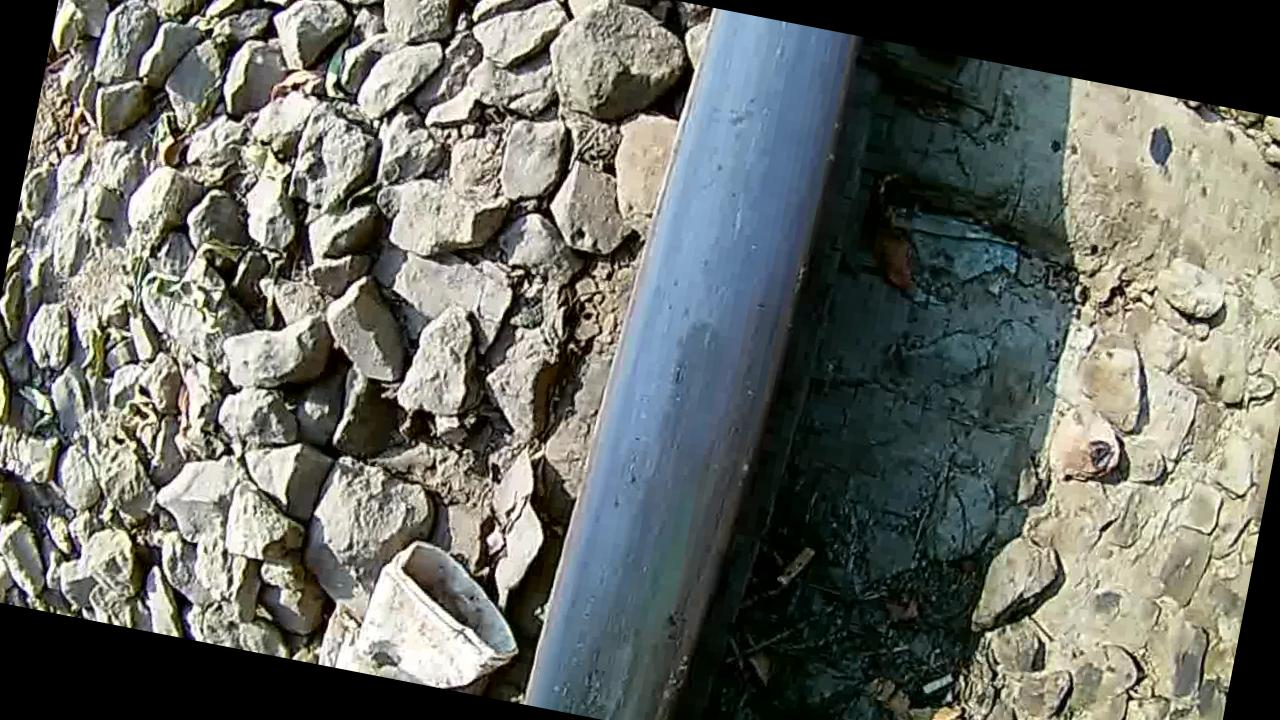bolt_missing: (515, 250, 812, 720)
